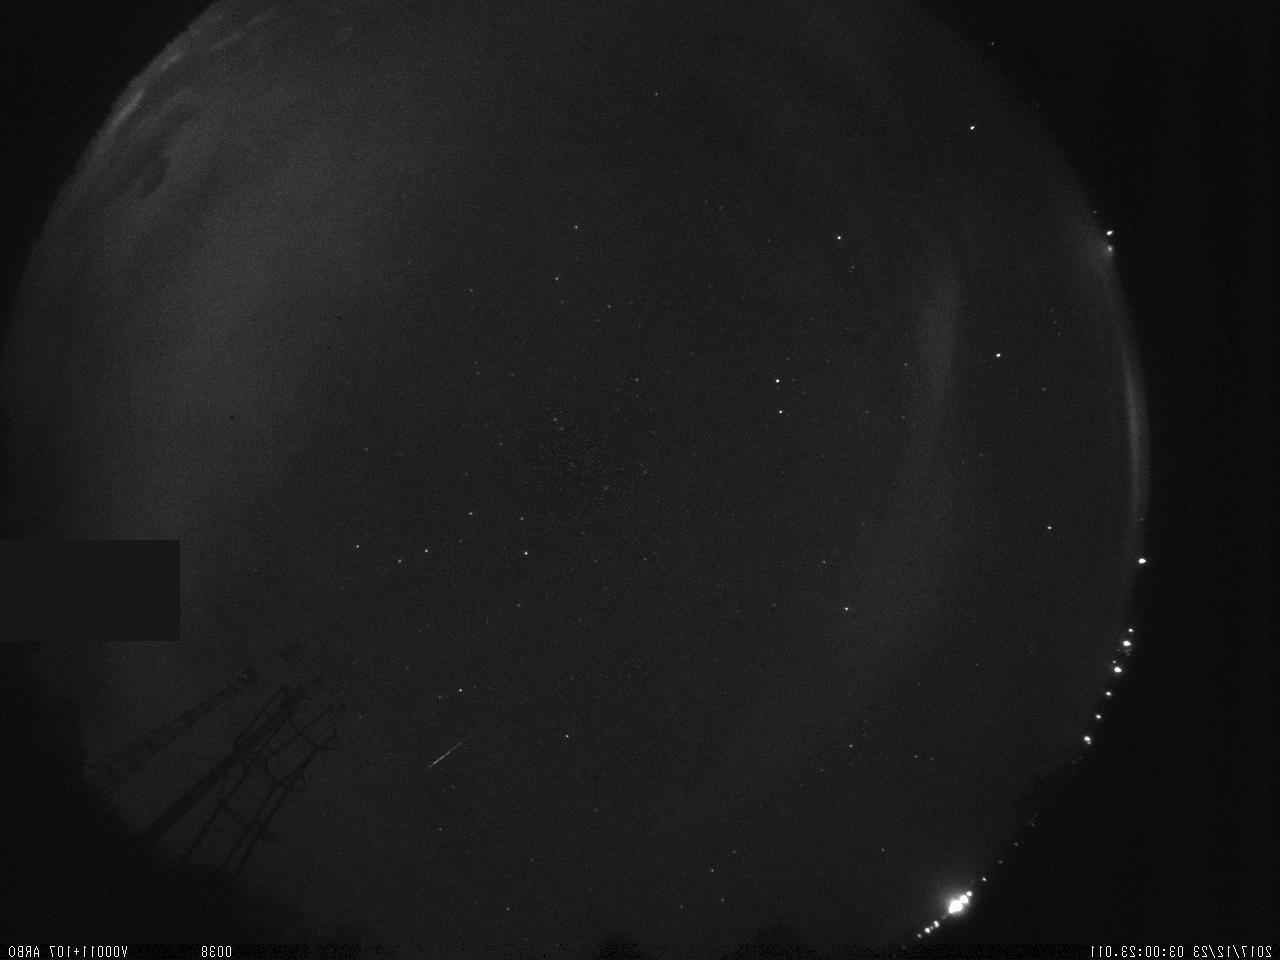meteor: (414, 723, 472, 779)
